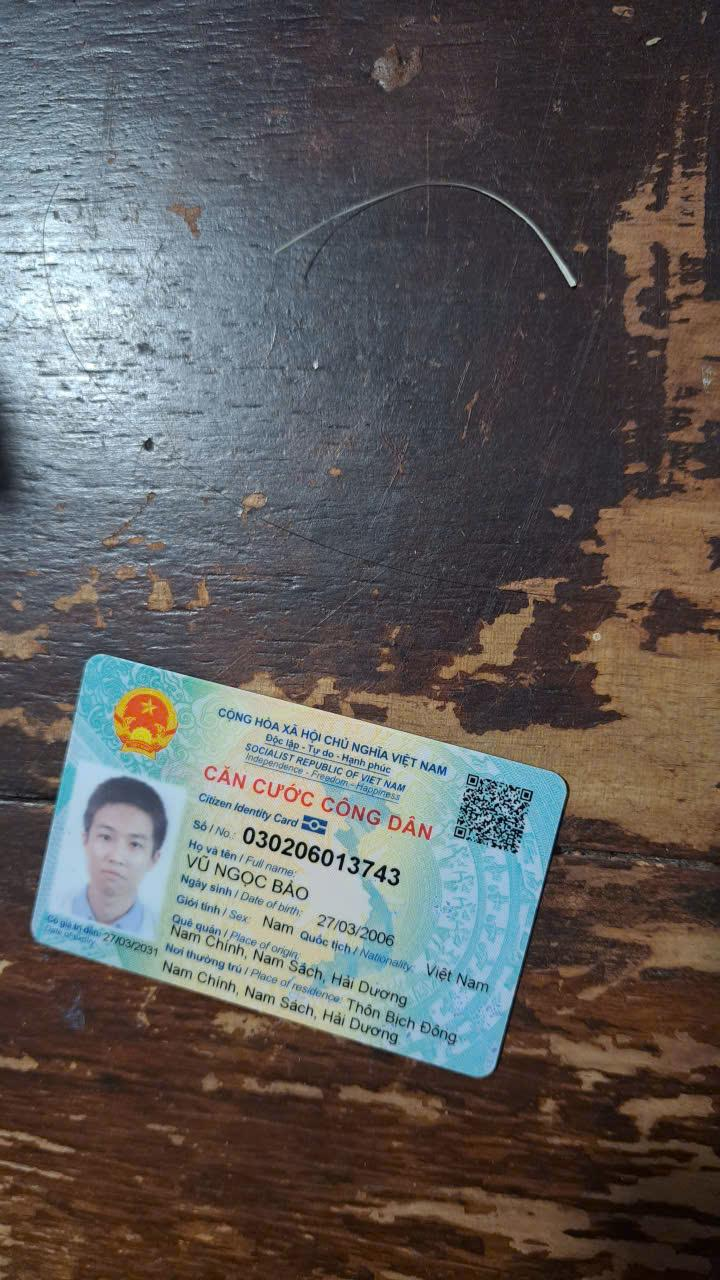cccd: (14, 647, 570, 1087)
